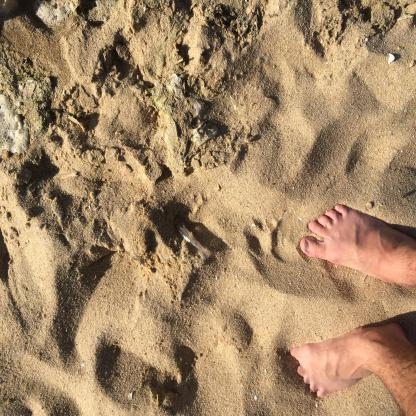plastik: (178, 223, 210, 261)
